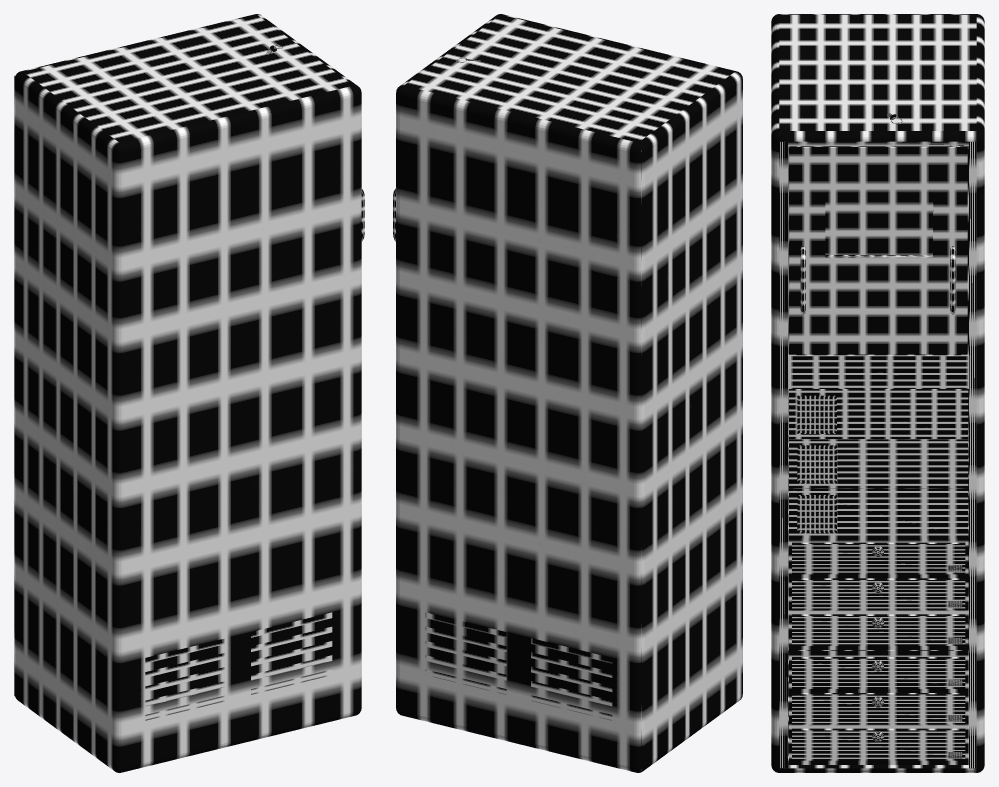
File: Server 1.fbx
3 views of the same model, side by side, from view 1: azimuth 30°, elevation 25°; view 2: azimuth 150°, elevation 25°; view 3: azimuth 270°, elevation 25° (orthographic).
Visible parts, largest first — view 1: Plane_1; view 2: Plane_1; view 3: Plane_1.
Part boxes in pixels (box(x1,y1,x2,y2)): Plane_1: box(14, 14, 364, 772); Plane_1: box(393, 14, 742, 772); Plane_1: box(771, 14, 984, 772).
Size of the model in its own units: 710 by 1632 by 489.
Materials: 1 (1 with a texture image).
